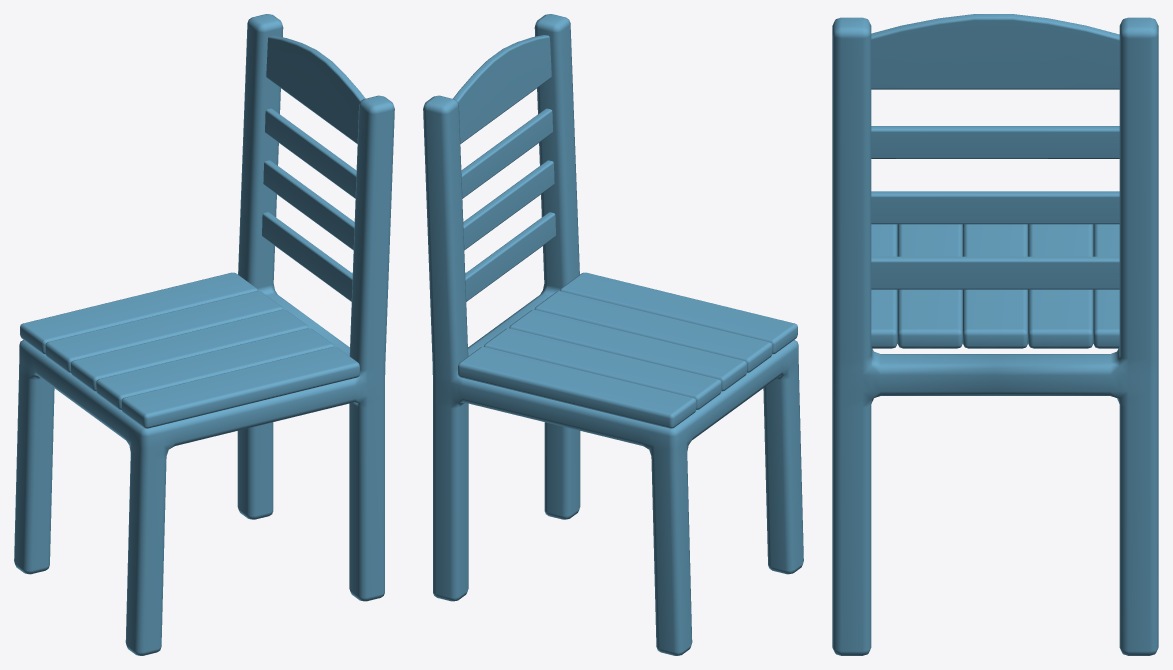
Rendered from chair_02_blue.fbx.
3 renders of one model, left to right at view 1: azimuth 30°, elevation 25°; view 2: azimuth 150°, elevation 25°; view 3: azimuth 270°, elevation 25°, orthographic. The views are drawn at different scales.
Visible parts, largest first — view 1: chair_02_blue; view 2: chair_02_blue; view 3: chair_02_blue.
Part boxes in pixels (x1,y1,x2,y2): chair_02_blue: [14, 14, 394, 655]; chair_02_blue: [423, 14, 803, 655]; chair_02_blue: [832, 14, 1158, 655].
Bounding box in the file's own units: 59.37 × 109 × 50.24.
1 material, 1 textured.
